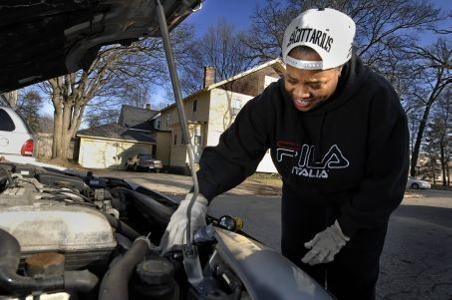person: (157, 6, 415, 298)
